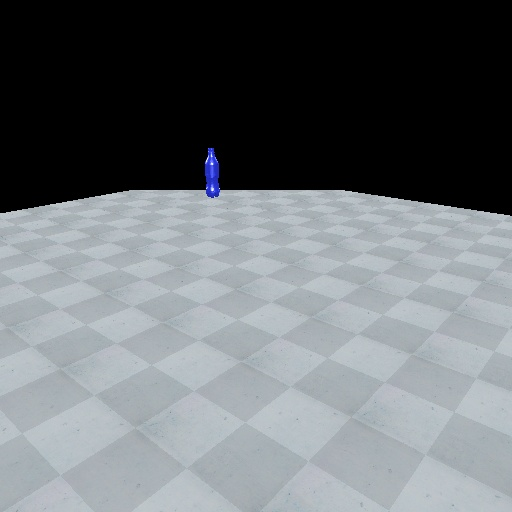bottle: (202, 143, 222, 200)
